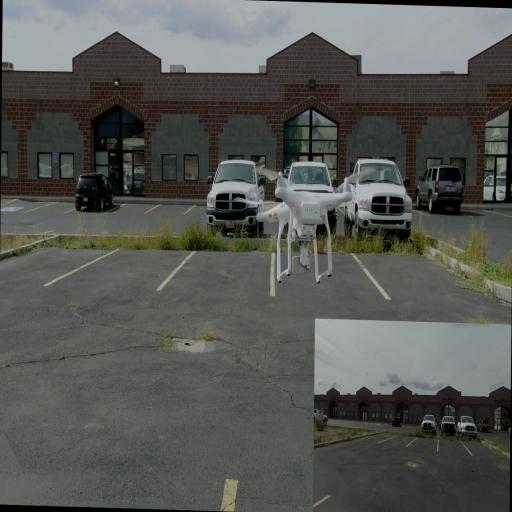drone: (248, 163, 360, 286)
